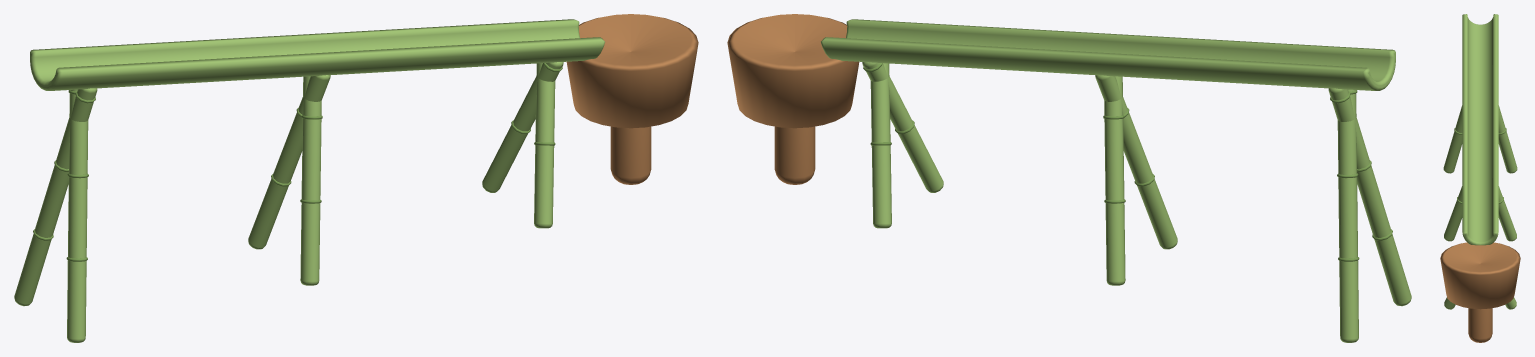
Rendered from bamboo_noodle_slide.glb.
The picture shows the model from 3 angles, left to right: view 1: azimuth 30°, elevation 25°; view 2: azimuth 150°, elevation 25°; view 3: azimuth 270°, elevation 25°; orthographic projection. The views are drawn at different scales.
Parts seen in each view (by area): view 1: bamboo_noodle_slide_mesh; view 2: bamboo_noodle_slide_mesh; view 3: bamboo_noodle_slide_mesh.
Boxes of the visible parts, box(x1,y1,x2,y2) form: bamboo_noodle_slide_mesh: box(14, 14, 698, 342); bamboo_noodle_slide_mesh: box(727, 14, 1411, 342); bamboo_noodle_slide_mesh: box(1440, 14, 1520, 342).
Size of the model in its own units: 2.22 by 0.866 by 0.4.
